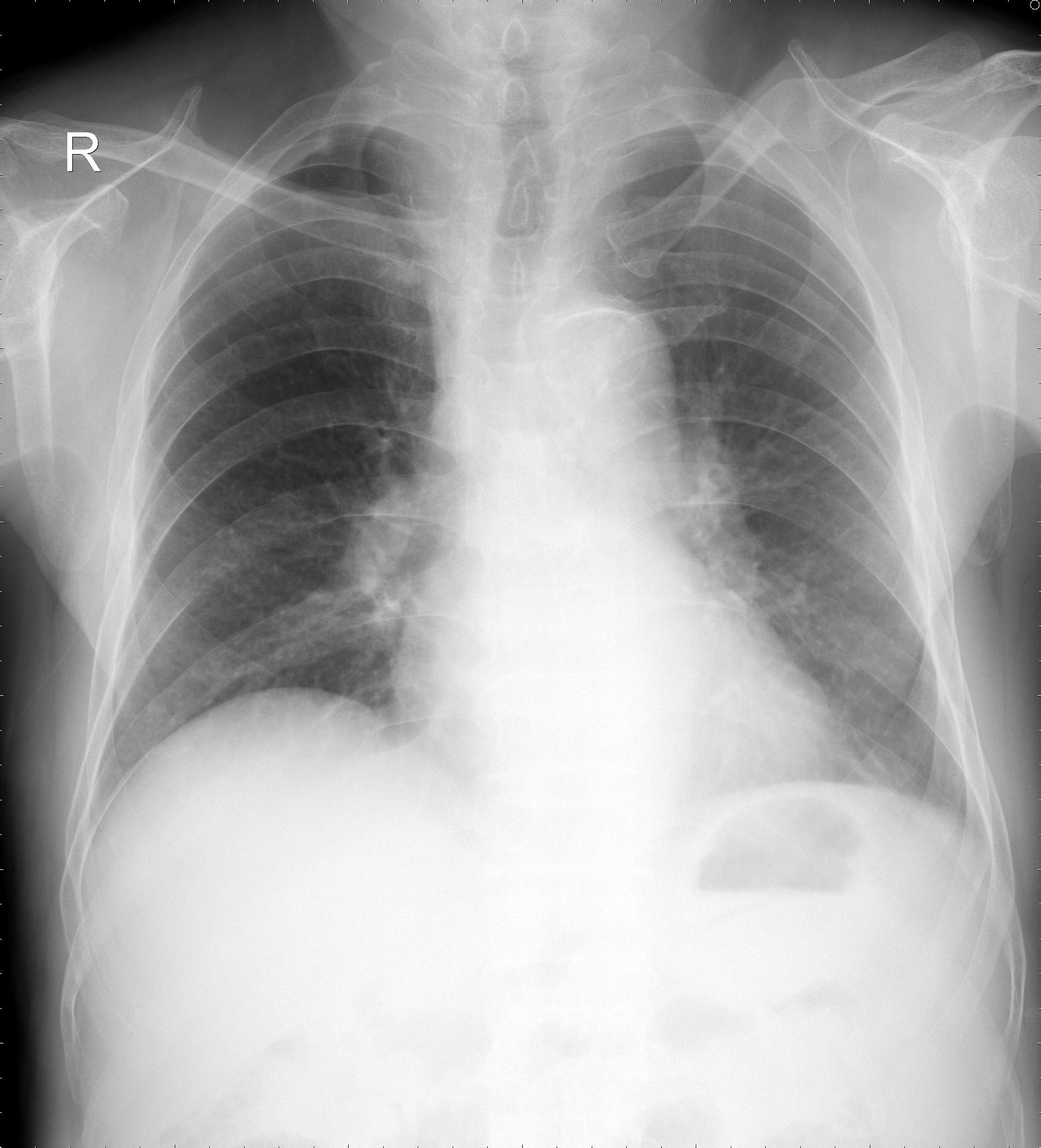Aortic enlargement: (531, 303, 681, 499)
